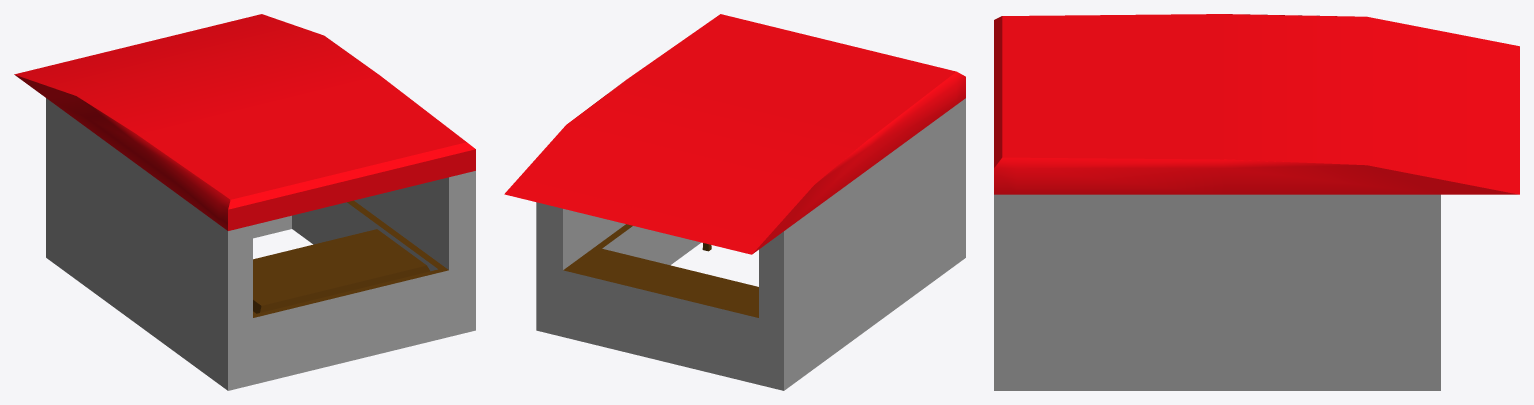
Rendered from NewVendorStand.fbx.
3 renders of one model, left to right at view 1: azimuth 30°, elevation 25°; view 2: azimuth 150°, elevation 25°; view 3: azimuth 270°, elevation 25°, orthographic. The views are drawn at different scales.
Visible parts, largest first — view 1: Box001; view 2: Box001; view 3: Box001.
Boxes of the visible parts, bbox=[...] form: Box001: bbox=[14, 14, 475, 390]; Box001: bbox=[504, 14, 965, 390]; Box001: bbox=[994, 14, 1519, 390].
Bounding box in the file's own units: 223 × 161 × 334.
